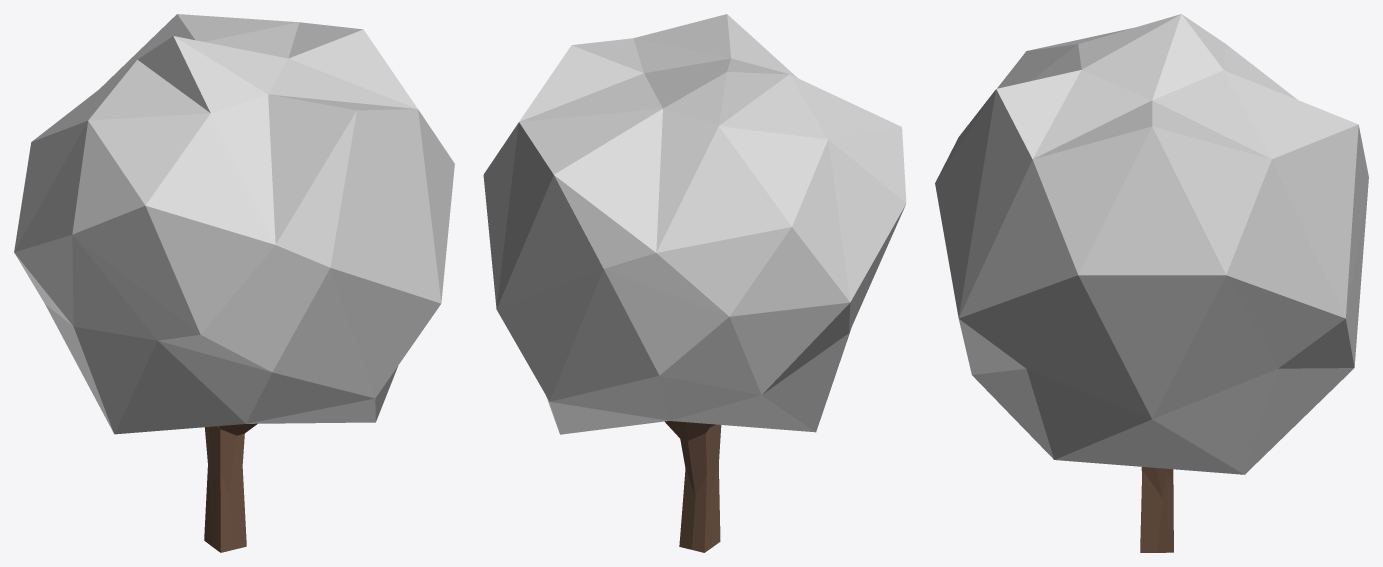
The model's file is Tree_12_White.fbx.
3 renders of one model, left to right at view 1: azimuth 30°, elevation 25°; view 2: azimuth 150°, elevation 25°; view 3: azimuth 270°, elevation 25°, orthographic. The views are drawn at different scales.
Parts seen in each view (by area): view 1: Tree_12_White_Part_1, Tree_12_White_Part_2; view 2: Tree_12_White_Part_1, Tree_12_White_Part_2; view 3: Tree_12_White_Part_1, Tree_12_White_Part_2.
Part boxes in pixels (x1=…): Tree_12_White_Part_1: x1=14, y1=14, x2=454, y2=434; Tree_12_White_Part_2: x1=204, y1=423, x2=257, y2=552; Tree_12_White_Part_1: x1=483, y1=14, x2=906, y2=434; Tree_12_White_Part_2: x1=664, y1=421, x2=721, y2=552; Tree_12_White_Part_1: x1=935, y1=14, x2=1368, y2=474; Tree_12_White_Part_2: x1=1140, y1=467, x2=1173, y2=552.
Bounding box in the file's own units: 583 × 758 × 582.
